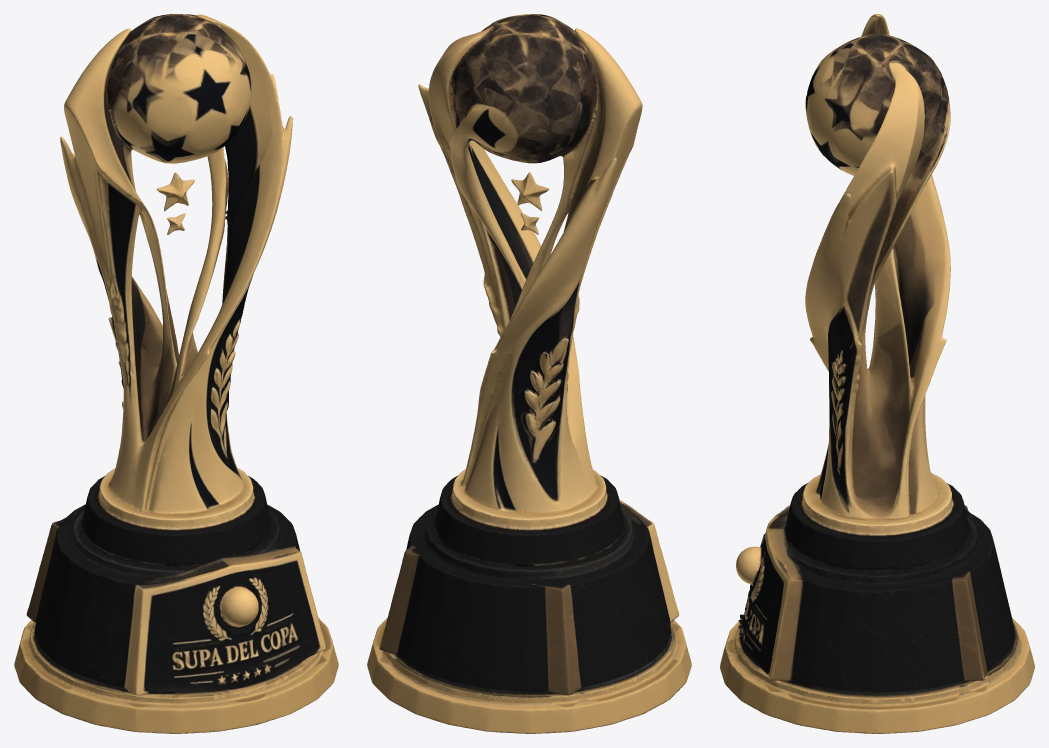
File: Meshy_AI_Golden_Glory_Trophy_0930102737_texture.glb
3 renders of one model, left to right at view 1: azimuth 30°, elevation 25°; view 2: azimuth 150°, elevation 25°; view 3: azimuth 270°, elevation 25°, orthographic. The views are drawn at different scales.
Bounding box in the file's own units: 0.8581 × 1.9 × 0.8583.
1 material, 1 textured.
